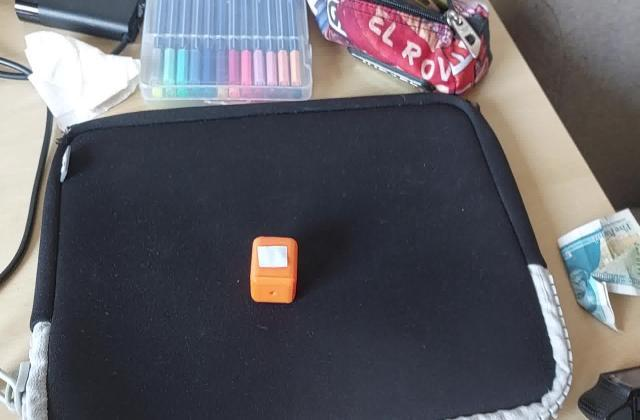sticker: (248, 234, 301, 306)
white: (255, 244, 292, 270)
